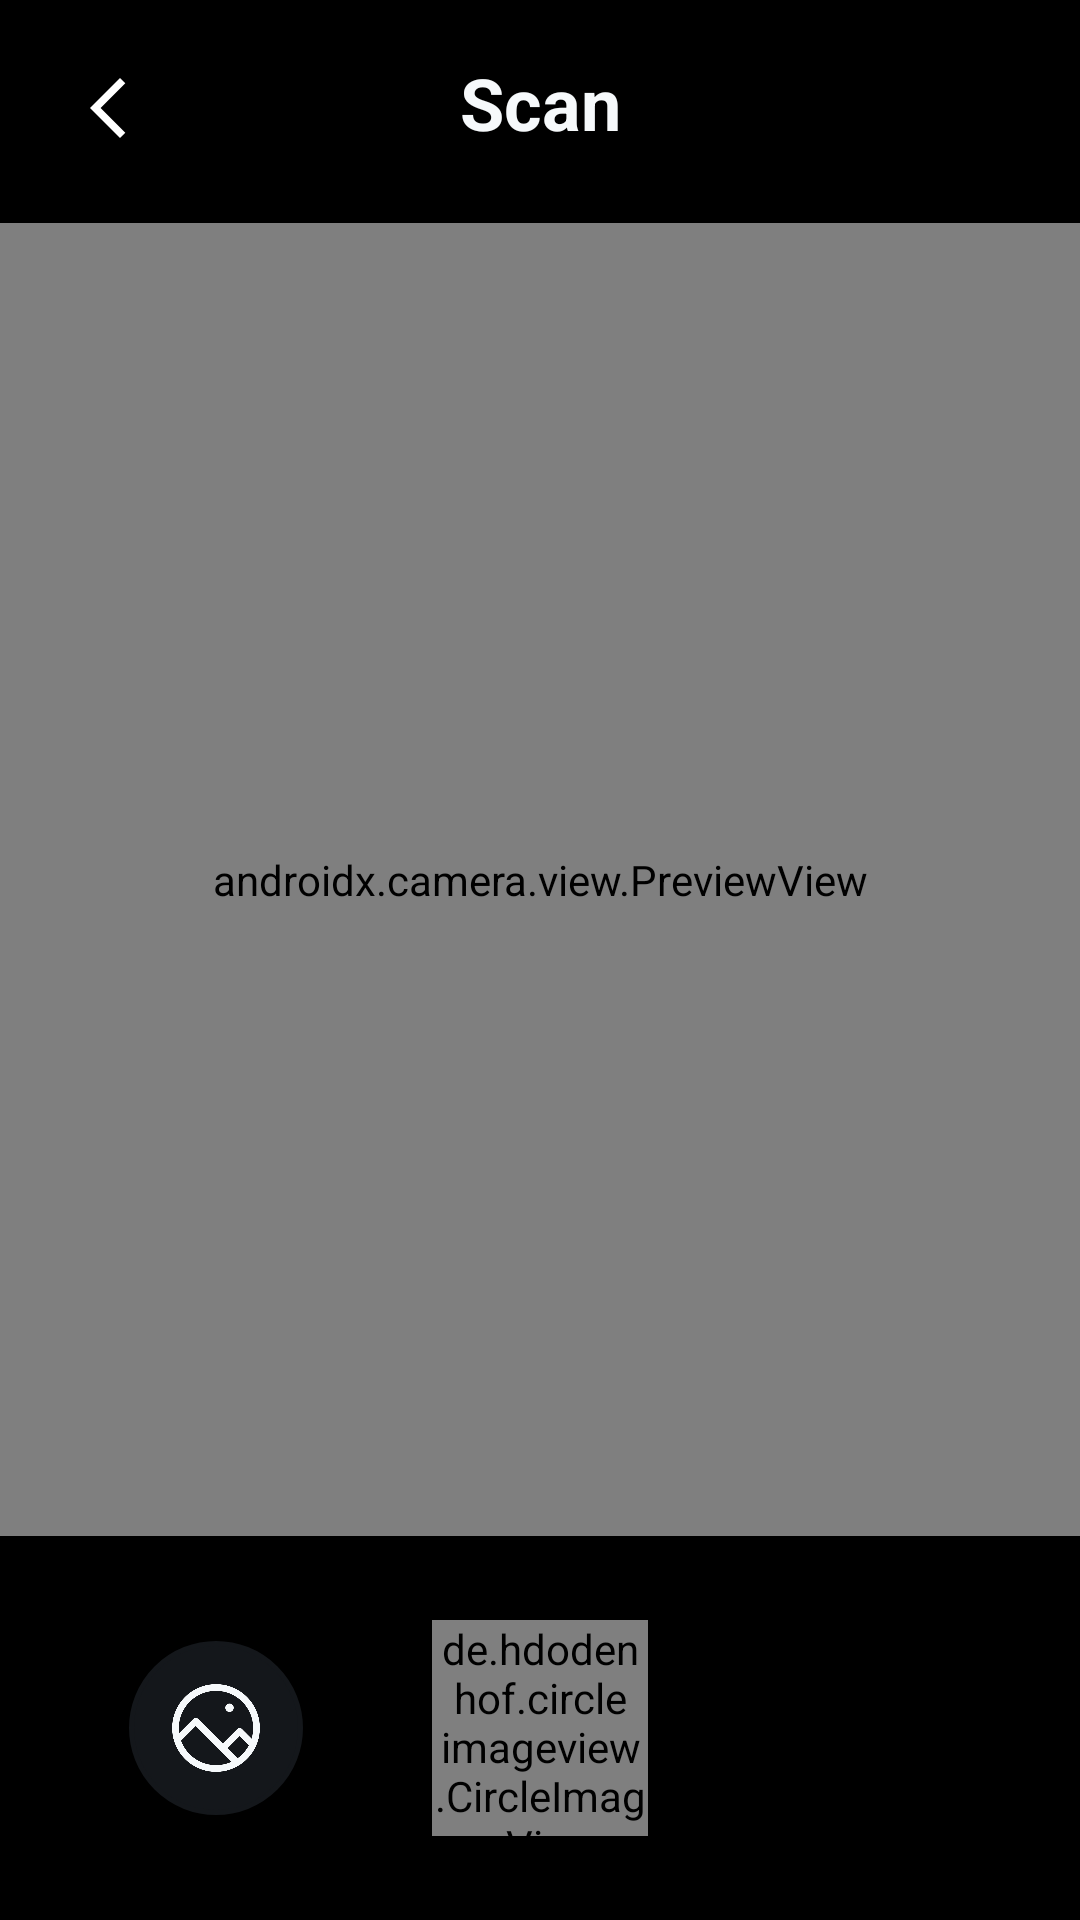

Where to tap for icons on this 1080w x 1920h app screen, as (x=x, y=y):
arrow back: (x=107, y=108)
gallery: (x=216, y=1728)
